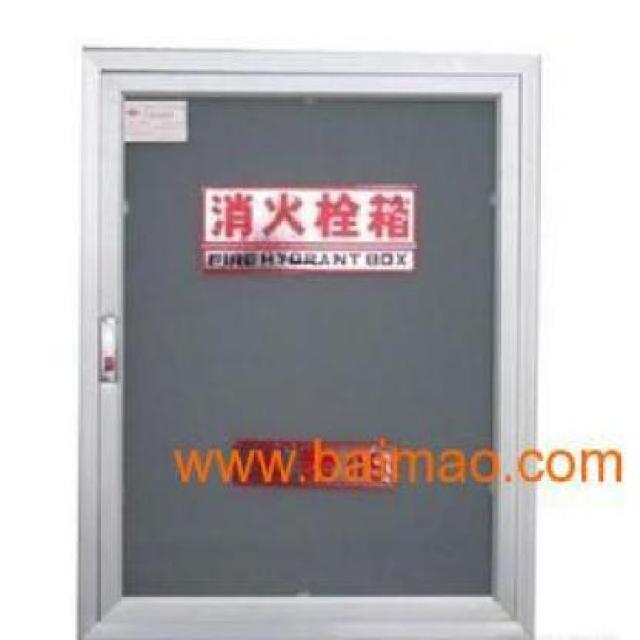firehydrant: (71, 41, 547, 640)
